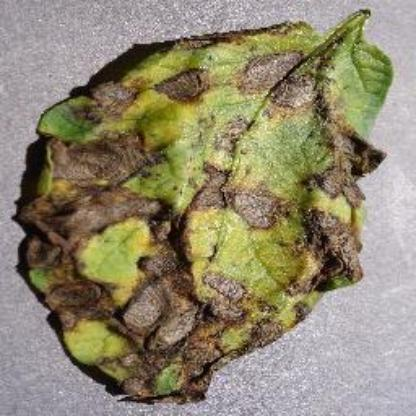Early-Blight: (15, 11, 402, 406)
